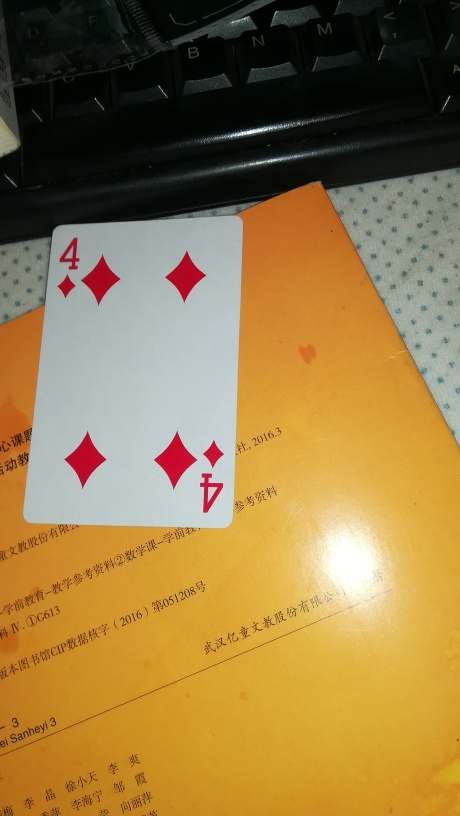fk 4: (24, 215, 245, 534)
